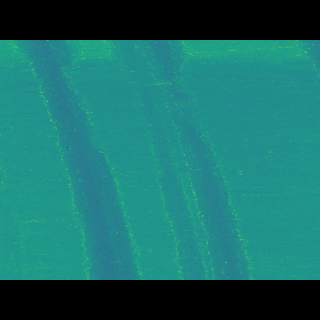Loch: (109, 69, 257, 250), (14, 69, 144, 250)
